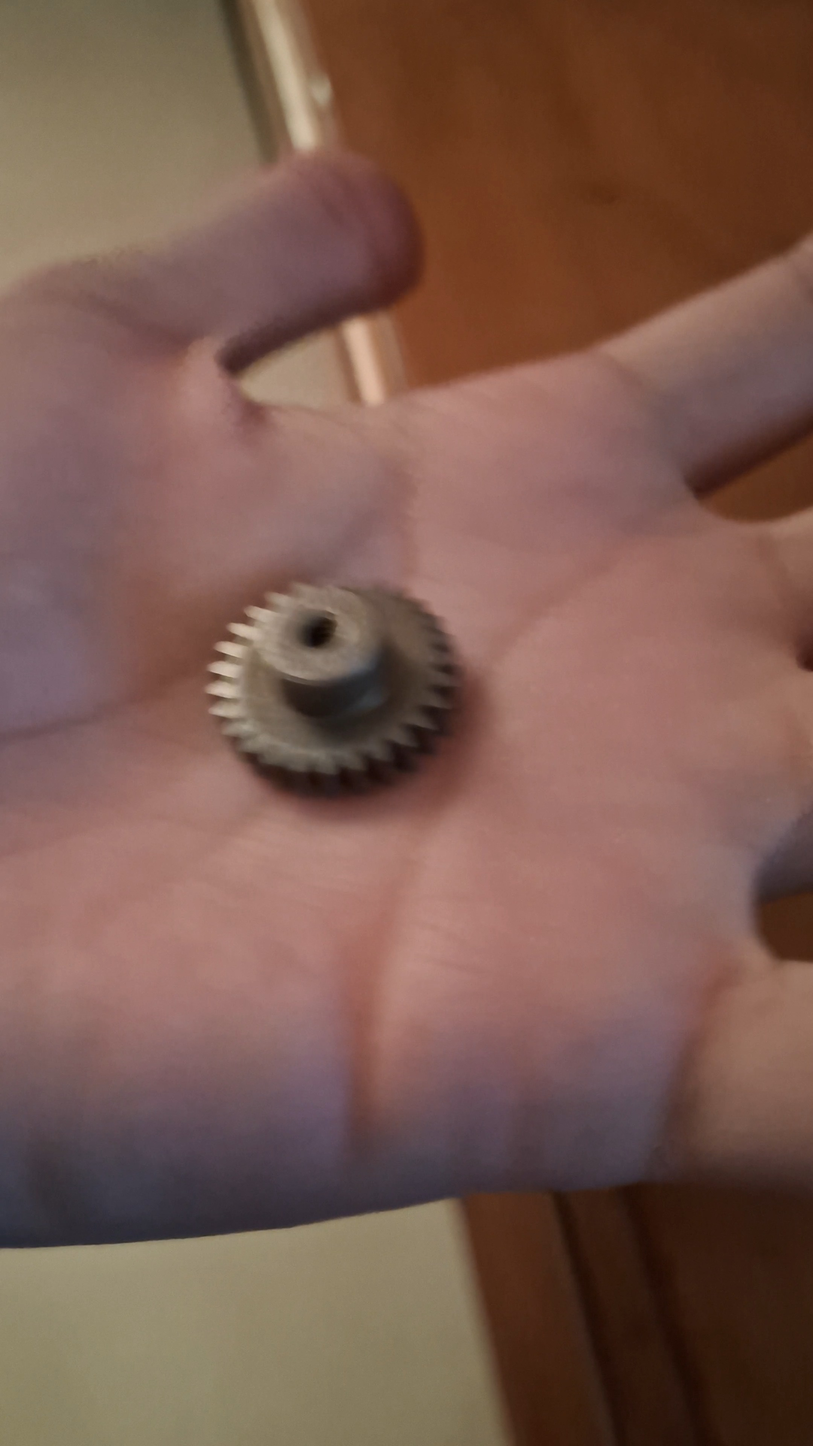spur gear: (207, 584, 458, 795)
